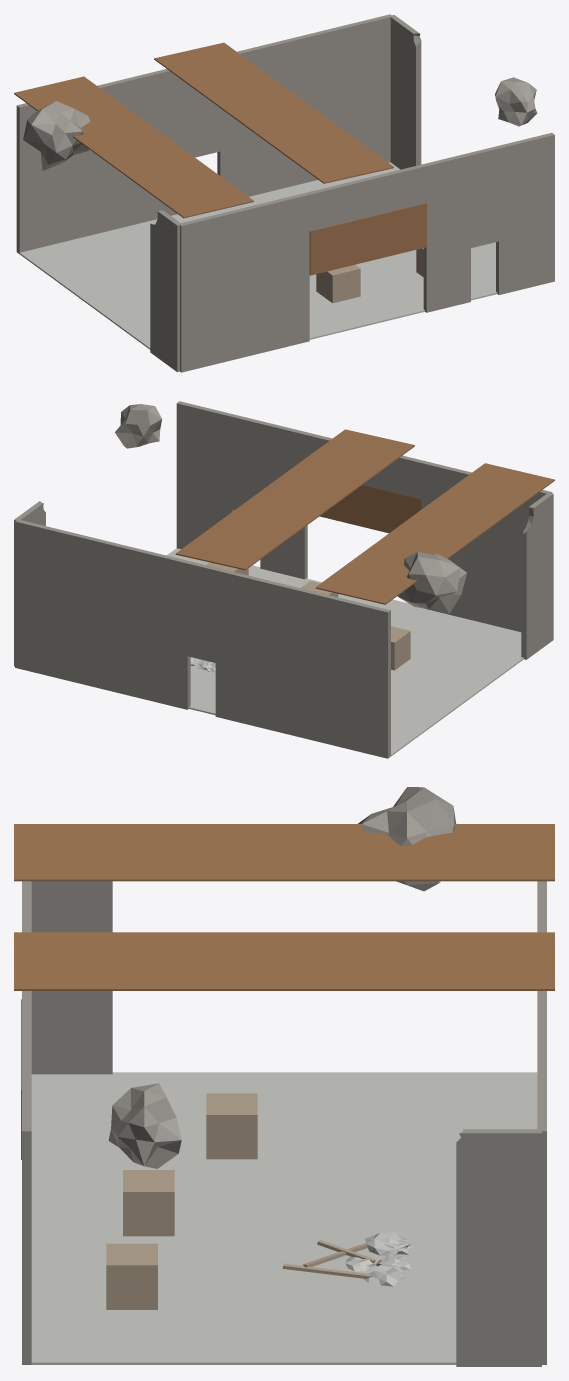
The model's file is galpao_r2.glb.
3 views of the same model, one above another, from view 1: azimuth 30°, elevation 25°; view 2: azimuth 150°, elevation 25°; view 3: azimuth 270°, elevation 25° (orthographic). The views are drawn at different scales.
Visible parts, largest first — view 1: ext_0-col, ext_2-col, telhado, chao-col, ext_3-col, ext_1-col, portao, engradado-col; view 2: ext_2-col, ext_0-col, telhado, chao-col, ext_3-col, portao, ext_1-col, engradado-col.001; view 3: chao-col, telhado, ext_1-col, ext_3-col, ext_0-col, engradado-col, engradado-col.001, engradado-col.002, entulho, ext_2-col.
Part boxes in pixels (left/top/right/bottom): ext_0-col: left=179, top=133, right=554, bottom=372; ext_2-col: left=16, top=14, right=391, bottom=253; telhado: left=14, top=42, right=393, bottom=218; chao-col: left=19, top=162, right=497, bottom=349; ext_3-col: left=23, top=101, right=180, bottom=372; ext_1-col: left=389, top=15, right=537, bottom=169; portao: left=309, top=203, right=426, bottom=275; engradado-col: left=316, top=265, right=360, bottom=303; ext_2-col: left=15, top=519, right=390, bottom=758; ext_0-col: left=176, top=401, right=552, bottom=631; telhado: left=175, top=429, right=554, bottom=604; chao-col: left=167, top=548, right=523, bottom=757; ext_3-col: left=397, top=493, right=553, bottom=659; portao: left=319, top=485, right=421, bottom=533; ext_1-col: left=14, top=404, right=161, bottom=666; engradado-col.001: left=391, top=626, right=410, bottom=670; chao-col: left=31, top=1072, right=537, bottom=1364; telhado: left=14, top=824, right=554, bottom=990; ext_1-col: left=108, top=1083, right=541, bottom=1366; ext_3-col: left=31, top=787, right=456, bottom=1074; ext_0-col: left=22, top=881, right=31, bottom=1364; engradado-col: left=123, top=1170, right=174, bottom=1236; engradado-col.001: left=206, top=1093, right=257, bottom=1159; engradado-col.002: left=106, top=1243, right=157, bottom=1309; entulho: left=282, top=1232, right=411, bottom=1286; ext_2-col: left=537, top=881, right=546, bottom=1364.
Bounding box in the file's own units: 18.24 × 7.38 × 12.6.
